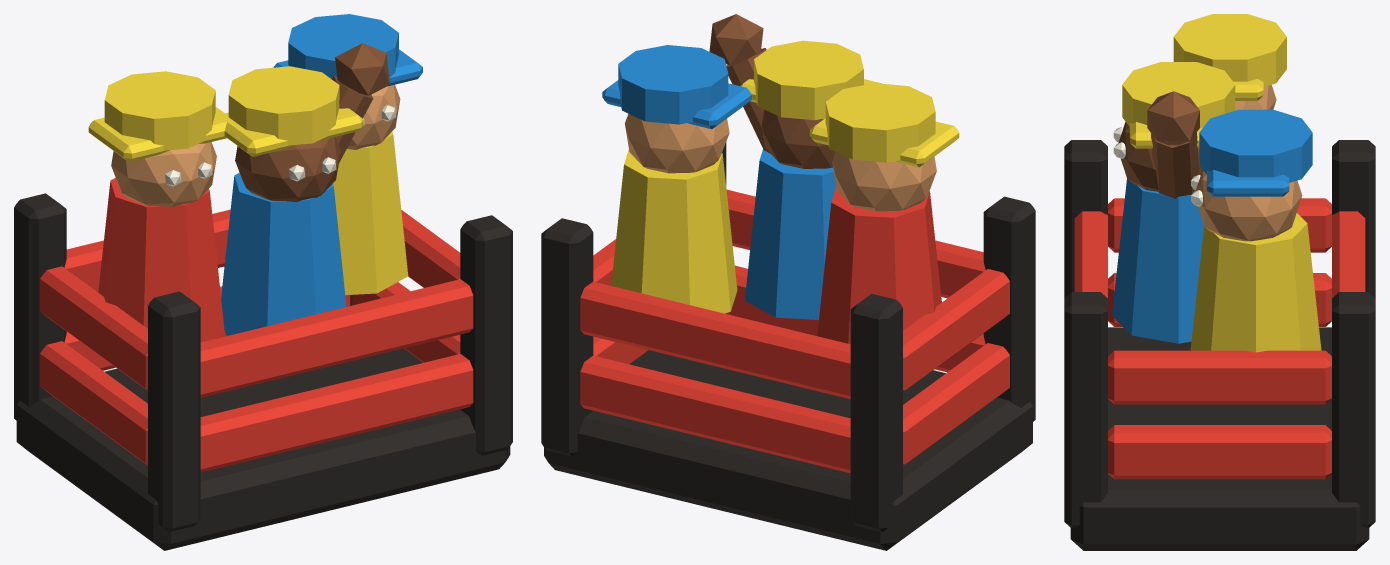
Rendered from people.glb.
The picture shows the model from 3 angles, left to right: view 1: azimuth 30°, elevation 25°; view 2: azimuth 150°, elevation 25°; view 3: azimuth 270°, elevation 25°; orthographic projection.
Visible parts, largest first — view 1: people-open-crate-floor, people-crate-long-slat-0-0, people-crate-long-slat-0-1, people-peg-torso-1, people-peg-torso-0, people-crate-post-0, people-crate-post-2, people-peg-torso-2, people-crate-post-1, people-hardhat-crown-1, people-hardhat-crown-0, people-crate-side-slat-0-0 (+14 smaller); view 2: people-open-crate-floor, people-peg-torso-2, people-crate-long-slat-1-0, people-crate-long-slat-1-1, people-peg-torso-0, people-crate-post-1, people-peg-torso-1, people-crate-post-3, people-crate-post-0, people-hardhat-crown-0, people-hardhat-crown-2, people-hardhat-crown-1 (+13 smaller); view 3: people-open-crate-floor, people-peg-torso-2, people-crate-side-slat-1-0, people-crate-side-slat-1-1, people-peg-torso-1, people-crate-post-2, people-crate-post-3, people-hardhat-crown-2, people-hardhat-crown-0, people-hardhat-crown-1, people-peg-head-2, people-crate-post-0 (+12 smaller).
Part boxes in pixels (x1=…): people-open-crate-floor: x1=16, y1=348, x2=510, y2=550; people-crate-long-slat-0-0: x1=200, y1=354, x2=473, y2=472; people-crate-long-slat-0-1: x1=200, y1=279, x2=473, y2=397; people-peg-torso-1: x1=221, y1=172, x2=346, y2=335; people-peg-torso-0: x1=98, y1=178, x2=224, y2=342; people-crate-post-0: x1=148, y1=291, x2=200, y2=532; people-crate-post-2: x1=460, y1=215, x2=512, y2=455; people-peg-torso-2: x1=333, y1=131, x2=408, y2=295; people-crate-post-1: x1=14, y1=193, x2=66, y2=420; people-hardhat-crown-1: x1=228, y1=66, x2=339, y2=145; people-hardhat-crown-0: x1=104, y1=71, x2=215, y2=150; people-crate-side-slat-0-0: x1=40, y1=341, x2=147, y2=465; people-open-crate-floor: x1=544, y1=350, x2=1032, y2=550; people-peg-torso-2: x1=611, y1=149, x2=737, y2=313; people-crate-long-slat-1-0: x1=580, y1=355, x2=850, y2=473; people-crate-long-slat-1-1: x1=580, y1=281, x2=850, y2=399; people-peg-torso-0: x1=817, y1=187, x2=941, y2=344; people-crate-post-1: x1=850, y1=293, x2=902, y2=532; people-peg-torso-1: x1=745, y1=149, x2=836, y2=319; people-crate-post-3: x1=541, y1=218, x2=593, y2=456; people-crate-post-0: x1=983, y1=196, x2=1035, y2=421; people-hardhat-crown-0: x1=825, y1=83, x2=935, y2=162; people-hardhat-crown-2: x1=618, y1=45, x2=728, y2=124; people-hardhat-crown-1: x1=754, y1=40, x2=863, y2=120; people-open-crate-floor: x1=1070, y1=327, x2=1369, y2=550; people-peg-torso-2: x1=1190, y1=213, x2=1321, y2=352; people-crate-side-slat-1-0: x1=1108, y1=425, x2=1331, y2=479; people-crate-side-slat-1-1: x1=1108, y1=350, x2=1331, y2=404; people-peg-torso-1: x1=1112, y1=179, x2=1204, y2=343; people-crate-post-2: x1=1064, y1=292, x2=1107, y2=528; people-crate-post-3: x1=1332, y1=292, x2=1375, y2=528; people-hardhat-crown-2: x1=1199, y1=109, x2=1312, y2=182; people-hardhat-crown-0: x1=1173, y1=14, x2=1286, y2=86; people-hardhat-crown-1: x1=1122, y1=62, x2=1235, y2=128; people-peg-head-2: x1=1196, y1=170, x2=1302, y2=241; people-crate-post-0: x1=1064, y1=140, x2=1107, y2=298.
Size of the model in its own units: 0.8989 by 1 by 0.6798.
